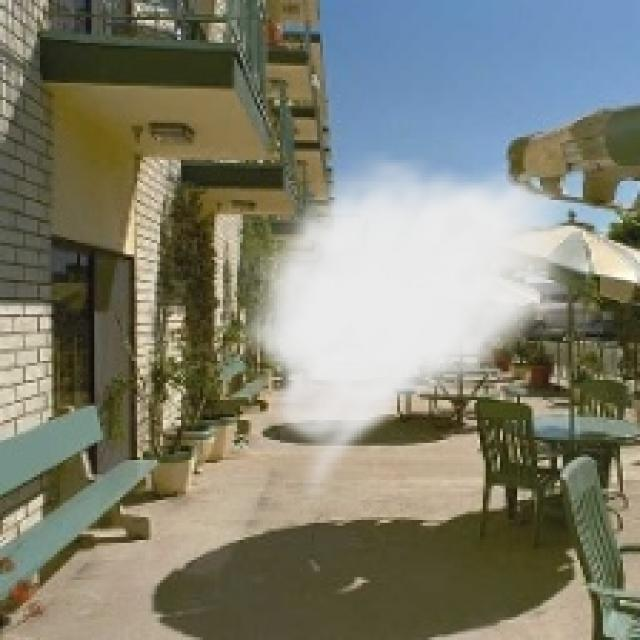Smoke: (228, 148, 592, 512)
